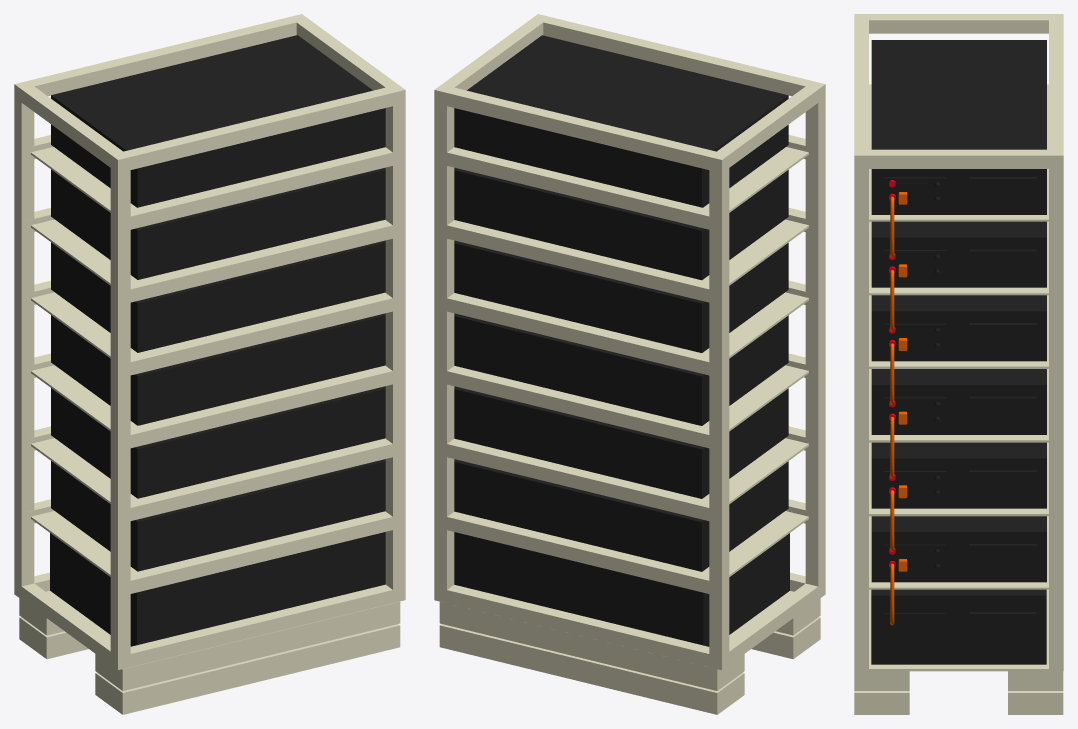
File: cluster.gltf
The picture shows the model from 3 angles, left to right: view 1: azimuth 30°, elevation 25°; view 2: azimuth 150°, elevation 25°; view 3: azimuth 270°, elevation 25°; orthographic projection.
Parts seen in each view (by area): view 1: 架子, pack06, 高压箱, pack01, pack02, pack03, pack04, pack05; view 2: 架子, pack06, 高压箱, pack01, pack02, pack03, pack04, pack05; view 3: 架子, pack06, 高压箱, pack04, pack02, pack05, pack01, pack03.
Boxes of the visible parts, x1,y1,x2,y2 form: 架子: [14, 14, 405, 714]; pack06: [51, 35, 385, 207]; 高压箱: [50, 532, 385, 646]; pack01: [51, 459, 385, 571]; pack02: [51, 386, 385, 498]; pack03: [51, 313, 385, 425]; pack04: [51, 240, 385, 352]; pack05: [51, 167, 385, 279]; 架子: [434, 14, 825, 714]; pack06: [454, 35, 788, 207]; 高压箱: [454, 532, 789, 646]; pack01: [454, 459, 788, 571]; pack02: [454, 386, 788, 498]; pack03: [454, 313, 788, 425]; pack04: [454, 240, 788, 352]; pack05: [454, 167, 788, 280]; 架子: [854, 14, 1063, 714]; pack06: [871, 40, 1046, 214]; 高压箱: [871, 589, 1046, 664]; pack04: [871, 295, 1046, 361]; pack02: [871, 442, 1046, 508]; pack05: [871, 221, 1046, 287]; pack01: [871, 516, 1046, 582]; pack03: [871, 369, 1046, 434].
Size of what is drawn, in the model's own units: 1.41 by 2.52 by 0.851.
